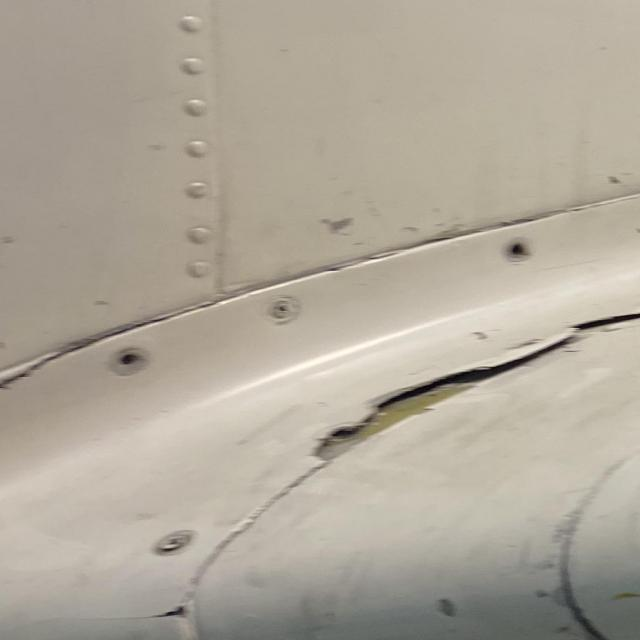Crack: (310, 352, 538, 462), (0, 348, 80, 389), (128, 592, 193, 639), (570, 311, 640, 339)
Missing-head: (107, 347, 145, 375), (500, 238, 530, 262)
Paint-off: (317, 217, 350, 234), (435, 598, 456, 619), (268, 639, 279, 640)
